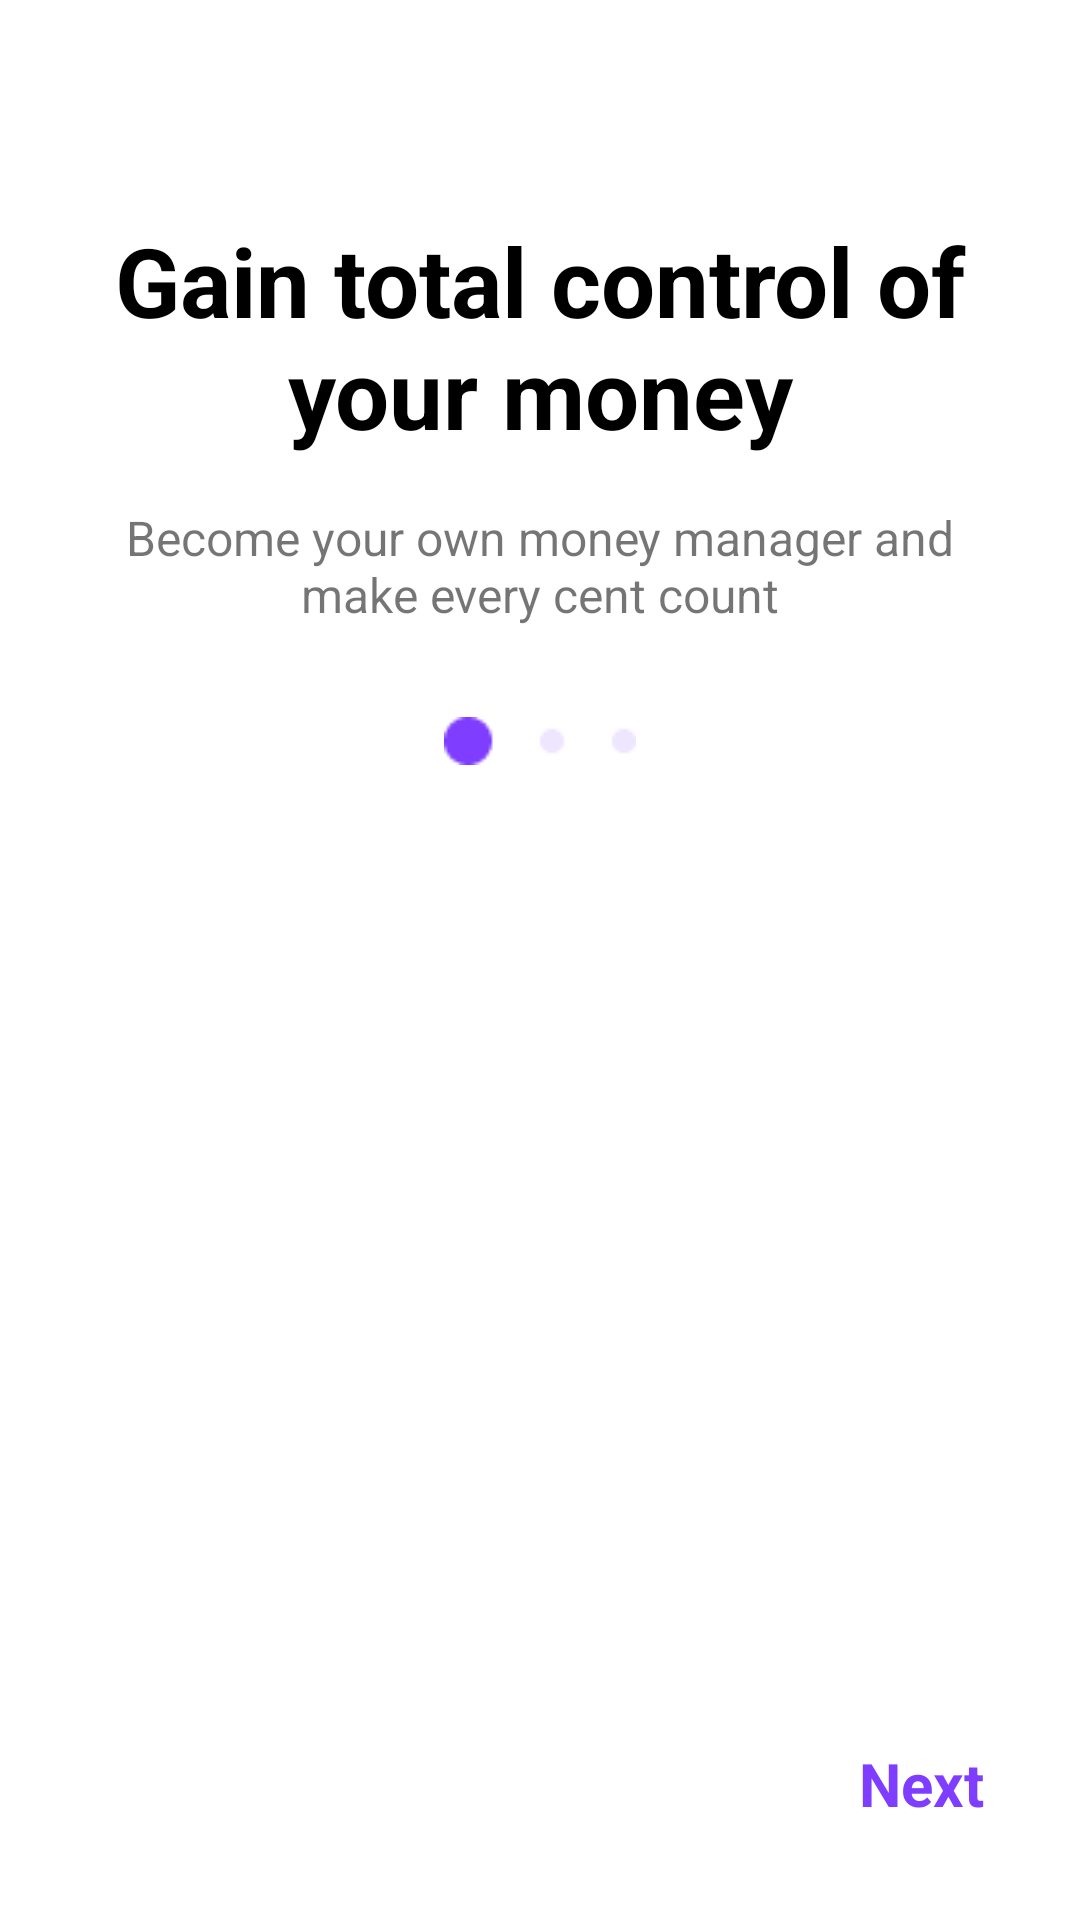

Where to tap for icons on this 1080w x 1920h app screen, as point (x, y):
first indicator: point (540, 741)
